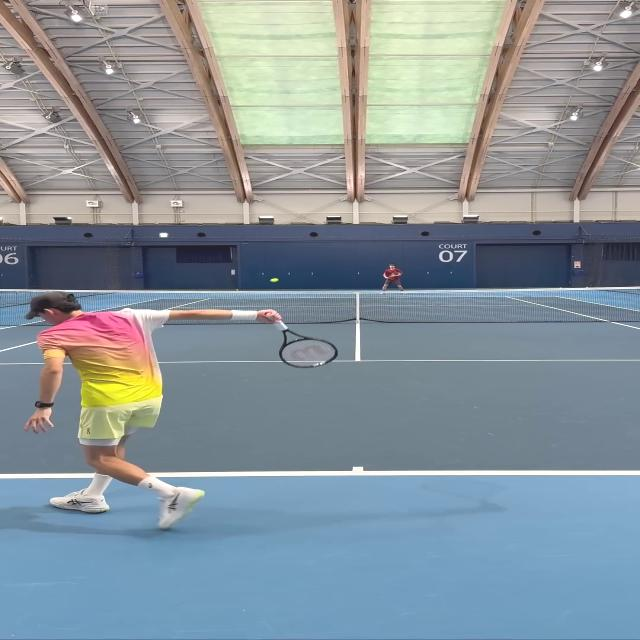tennis_ball: (272, 278, 278, 282)
